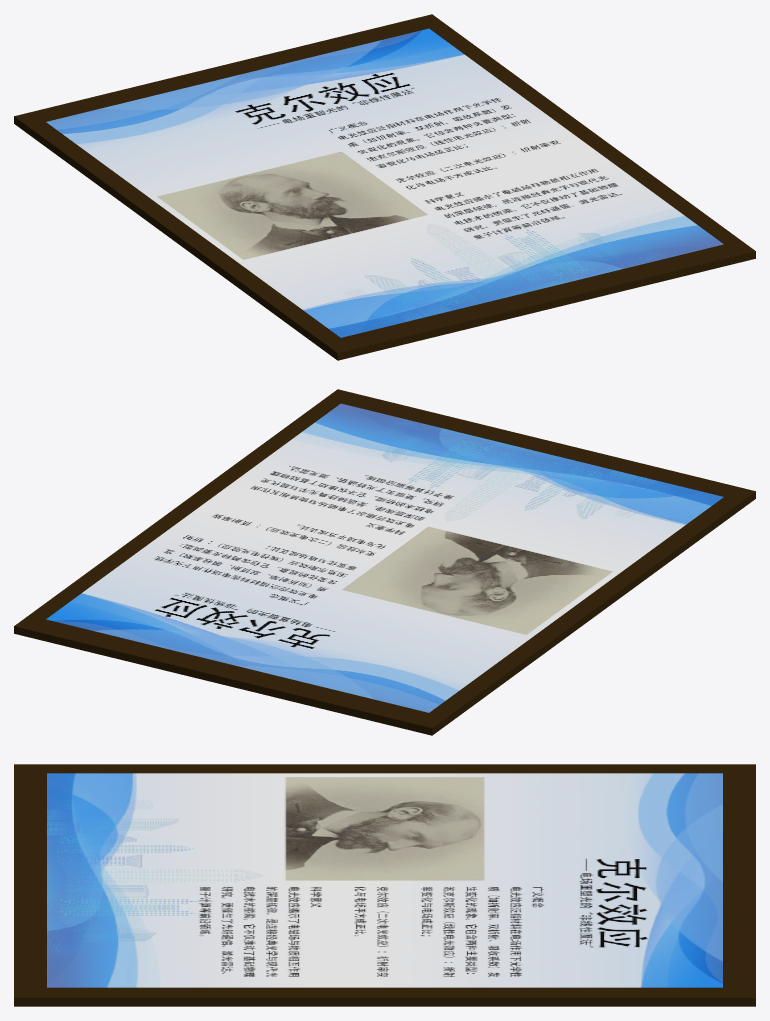
File: karr.fbx
3 views of the same model, one above another, from view 1: azimuth 30°, elevation 25°; view 2: azimuth 150°, elevation 25°; view 3: azimuth 270°, elevation 25° (orthographic). The views are drawn at different scales.
Visible parts, largest first — view 1: karr, Cube; view 2: karr, Cube; view 3: karr, Cube.
Boxes of the visible parts, bbox=[...] form: karr: bbox=[46, 28, 723, 337]; Cube: bbox=[14, 14, 755, 360]; karr: bbox=[46, 403, 723, 712]; Cube: bbox=[14, 389, 755, 735]; karr: bbox=[47, 773, 722, 987]; Cube: bbox=[14, 764, 755, 1006].
Bounding box in the file's own units: 81.85 × 1.5 × 110.
